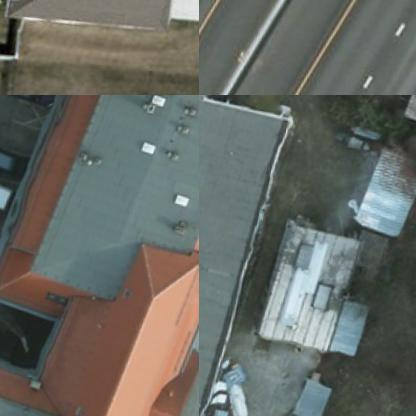car: (0, 140, 38, 191), (2, 95, 63, 108), (207, 95, 241, 107)
